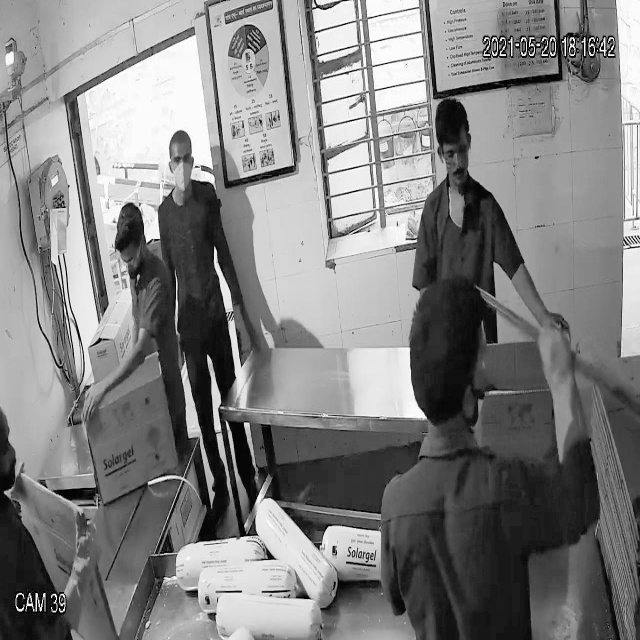Gafas: (116, 237, 150, 275)
Sin_gafas: (165, 151, 197, 172)
